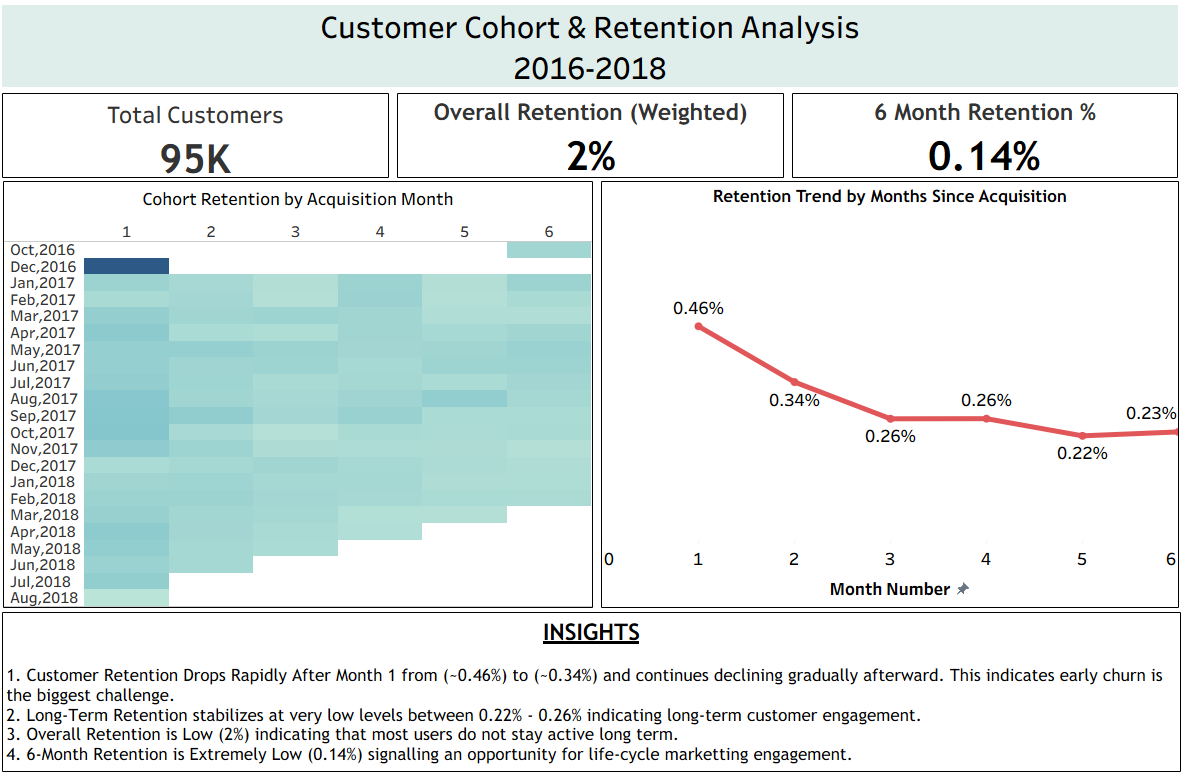

Layout of this report page (visuals, bound fields, positions):
{"tool":"tableau","page":{"name":"Dashboard 1","canvas":[1200,800],"ordinal":0},"visuals":[{"type":"title","box":[8,8,1184,90]},{"type":"worksheet","title":"KPI 1 : Total Customers","mark":"Automatic","box":[8,96,395,93]},{"type":"worksheet","title":"KPI 2: Average Retention %","mark":"Automatic","box":[403,96,395,93]},{"type":"worksheet","title":"KPI : 6 Month Retention","mark":"Automatic","box":[798,96,394,93]},{"type":"worksheet","title":"Heat Map: Cohort Retention","mark":"Square","rows":["Calculation_1947828475850761"],"cols":["month_number"],"box":[9,184,598,435]},{"type":"worksheet","title":"Line : Retention Trend","mark":"Line","rows":["Calculation_1947828474036232"],"cols":["month_number"],"box":[607,184,586,435]},{"type":"text","box":[8,615,1187,168]}]}

Visuals, with their boxes in screenshot pixels (x1, y1, x2, y2), scaled from the page's 1200x800 canvas onto the 1182x773 screenshot:
title: 8,8,1174,95
"KPI 1 : Total Customers" worksheet: 8,93,397,183
"KPI 2: Average Retention %" worksheet: 397,93,786,183
"KPI : 6 Month Retention" worksheet: 786,93,1174,183
"Heat Map: Cohort Retention" worksheet (Square marks): 9,178,598,598
"Line : Retention Trend" worksheet (Line marks): 598,178,1175,598
text: 8,594,1177,757
